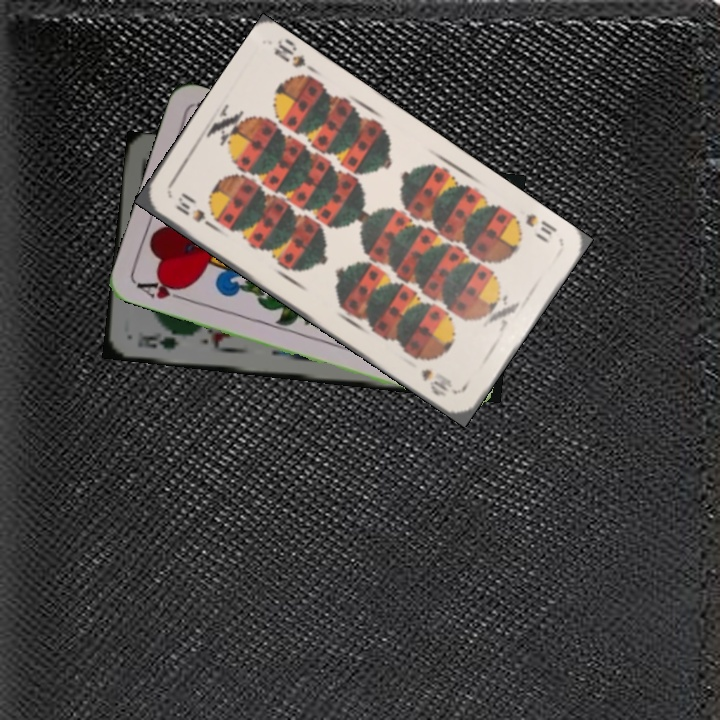GK: (133, 328, 189, 352)
HA: (133, 274, 191, 304)
S10: (172, 191, 219, 232), (521, 209, 560, 238)
